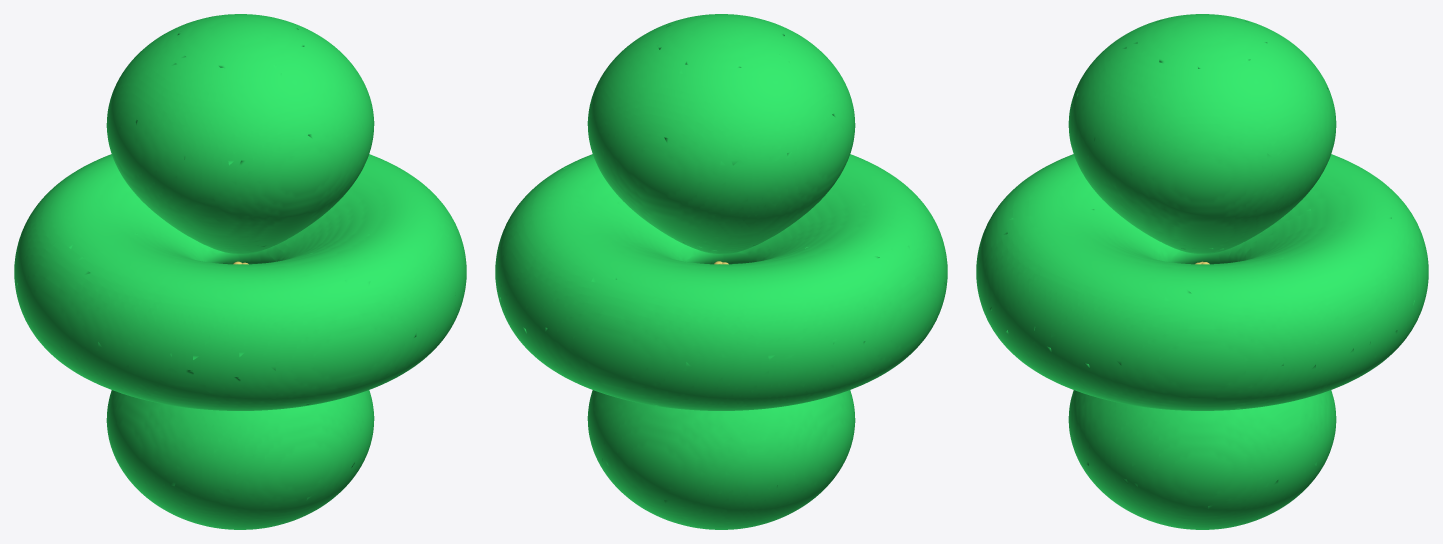
Rendered from SchrodingerModel.glb.
3 renders of one model, left to right at view 1: azimuth 30°, elevation 25°; view 2: azimuth 150°, elevation 25°; view 3: azimuth 270°, elevation 25°, orthographic.
Parts seen in each view (by area): view 1: Orbital; view 2: Orbital; view 3: Orbital.
Boxes of the visible parts, box(x1,y1,x2,y2) form: Orbital: box(14, 14, 466, 529); Orbital: box(495, 14, 947, 529); Orbital: box(976, 14, 1428, 529).
Bounding box in the file's own units: 98.78 × 117 × 98.78.
